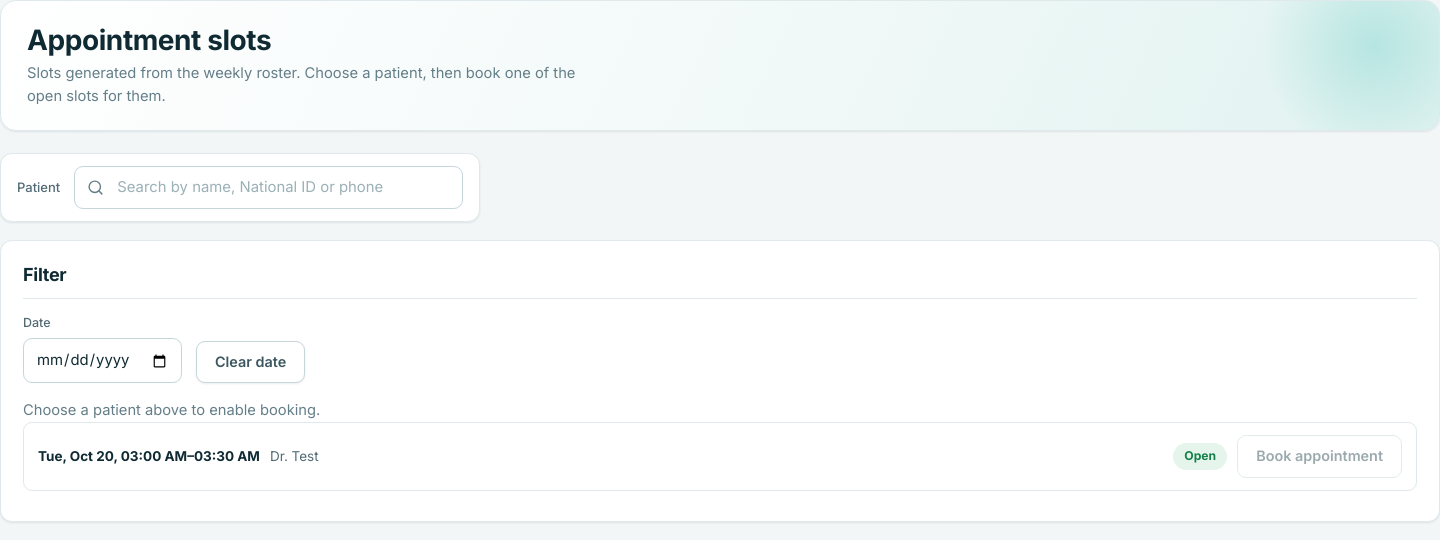
Test: SlotsPage patient selection › no patient ID box any more; booking is disabled until a patient is chosen
expect the button "Book appointment" is disabled: met, box x1=1237 y1=435 x2=1402 y2=478
expect the text "Choose a patient above to enable booking." is shown: met, box x1=23 y1=402 x2=320 y2=420
Focus the dropdown. click: coordinates (269, 187)
box: x1=74 y1=166 x2=463 y2=209
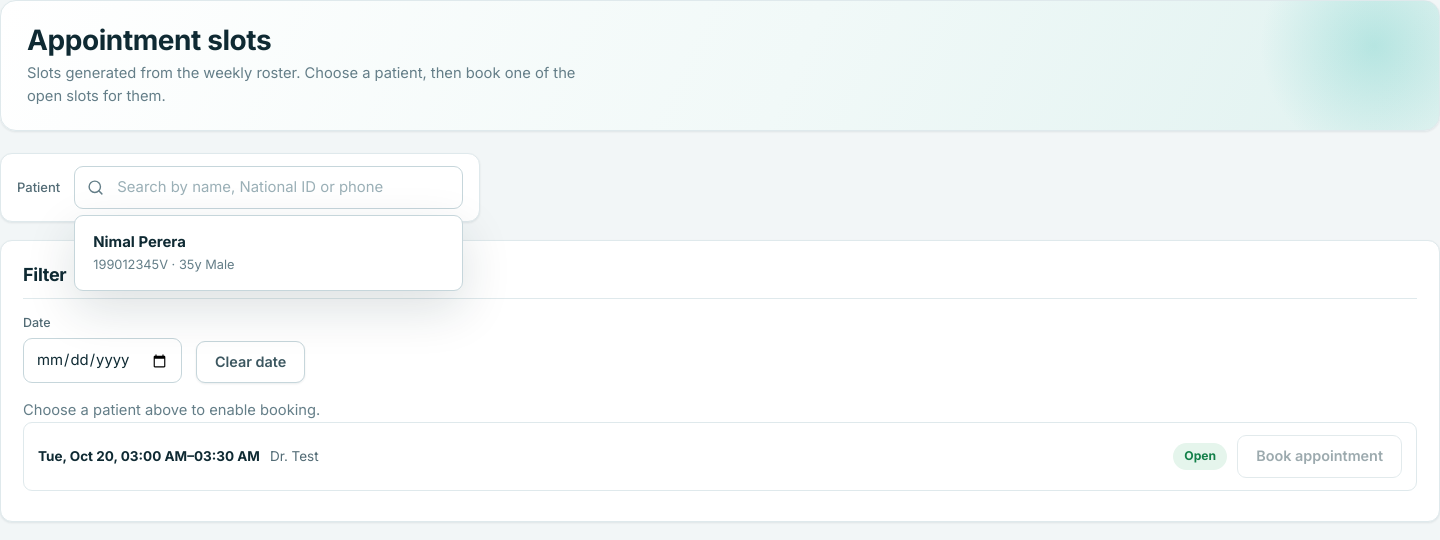
Press the mouse on the option "Nimal Perera 199012345V · 35y Male" at coordinates (164, 252), box x1=93 y1=233 x2=234 y2=272
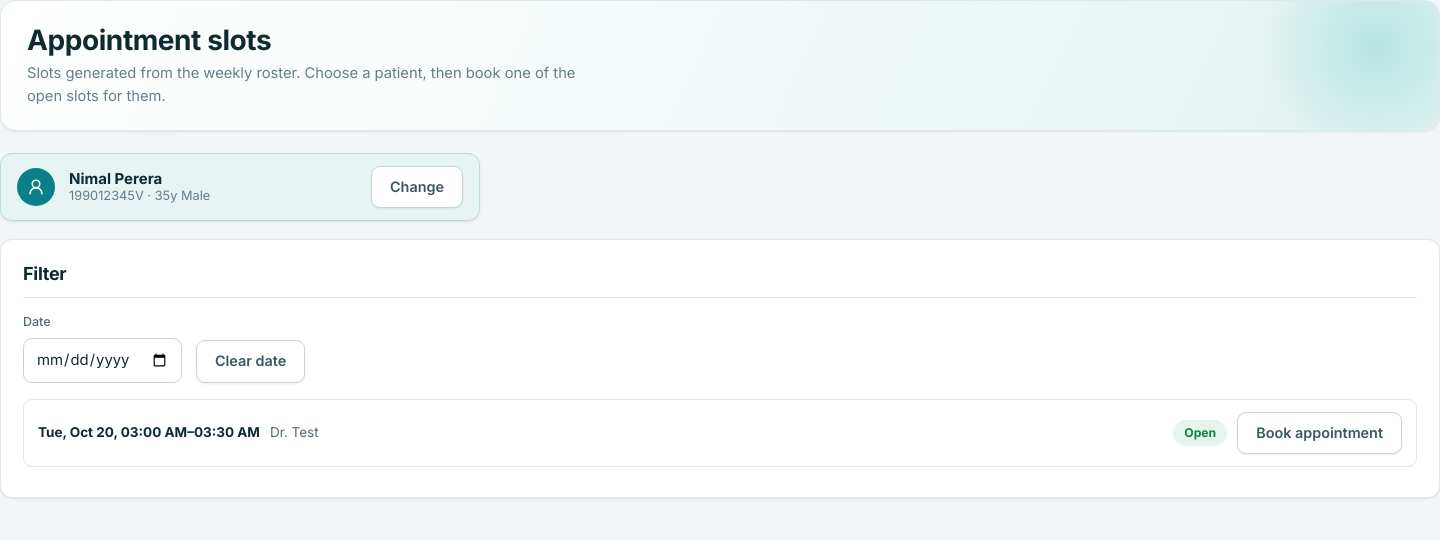
expect the button "Book appointment" is enabled: met, box x1=1237 y1=412 x2=1402 y2=454
expect the text "Choose a patient above" is gone: met
